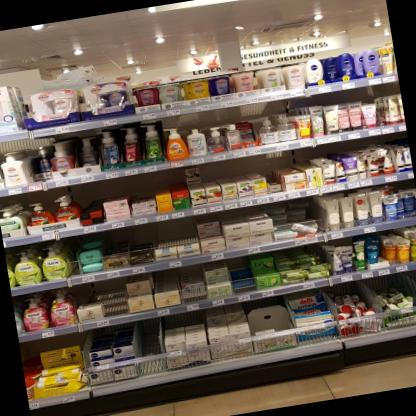empty_space: (97, 274, 128, 317), (155, 218, 198, 248), (140, 320, 162, 372), (251, 312, 288, 332)
